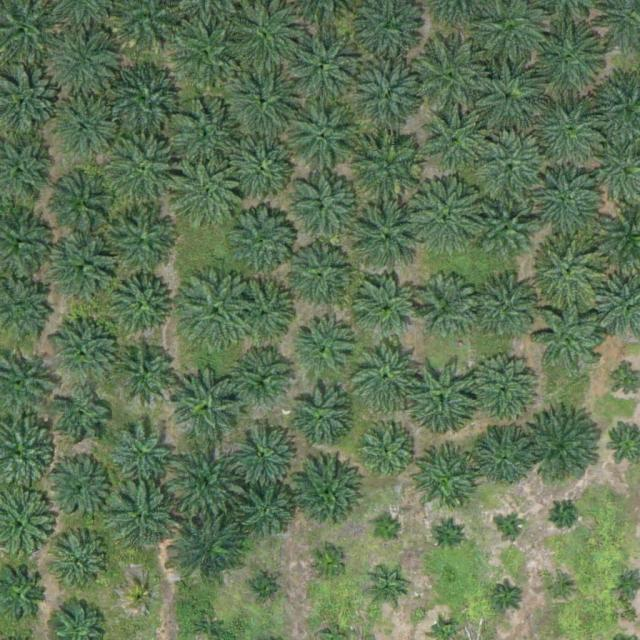Healthy: (45, 28, 123, 107), (106, 61, 184, 140), (104, 131, 182, 210), (171, 159, 249, 238), (167, 97, 245, 176), (226, 61, 304, 140), (223, 127, 301, 206), (221, 203, 299, 282), (284, 172, 362, 251), (284, 99, 362, 178), (351, 128, 429, 207), (350, 201, 428, 280), (411, 38, 489, 117), (468, 59, 546, 138), (473, 136, 551, 215), (527, 167, 605, 246), (532, 96, 610, 175), (529, 21, 607, 100), (406, 359, 484, 438), (348, 338, 426, 417), (176, 272, 254, 351), (167, 441, 245, 520), (172, 511, 250, 590), (288, 26, 366, 104), (351, 58, 429, 136), (410, 180, 488, 258), (528, 410, 606, 488), (466, 355, 537, 426), (291, 461, 362, 532), (109, 484, 180, 555), (536, 236, 606, 307), (535, 302, 606, 372), (409, 449, 479, 520), (229, 417, 299, 488), (173, 367, 243, 438), (51, 169, 121, 239), (107, 210, 177, 280), (50, 319, 120, 389), (425, 112, 488, 175), (472, 425, 535, 488), (294, 319, 357, 382), (176, 21, 238, 84), (476, 278, 538, 341), (413, 278, 475, 341), (357, 279, 419, 342), (356, 421, 418, 484), (287, 246, 349, 309), (289, 387, 352, 449), (233, 277, 295, 340), (115, 341, 178, 403), (112, 423, 174, 486), (52, 389, 114, 452), (49, 457, 111, 520), (59, 103, 121, 165), (235, 349, 297, 411), (110, 274, 172, 336), (55, 239, 117, 301), (478, 204, 533, 260), (56, 537, 111, 593), (241, 486, 296, 541)
Small: (308, 544, 347, 584), (367, 573, 406, 612), (246, 573, 277, 605), (434, 520, 465, 551), (493, 581, 524, 612), (372, 517, 403, 548), (553, 501, 577, 525), (501, 517, 524, 541), (549, 579, 572, 603)
Yellow: (128, 584, 159, 615)
